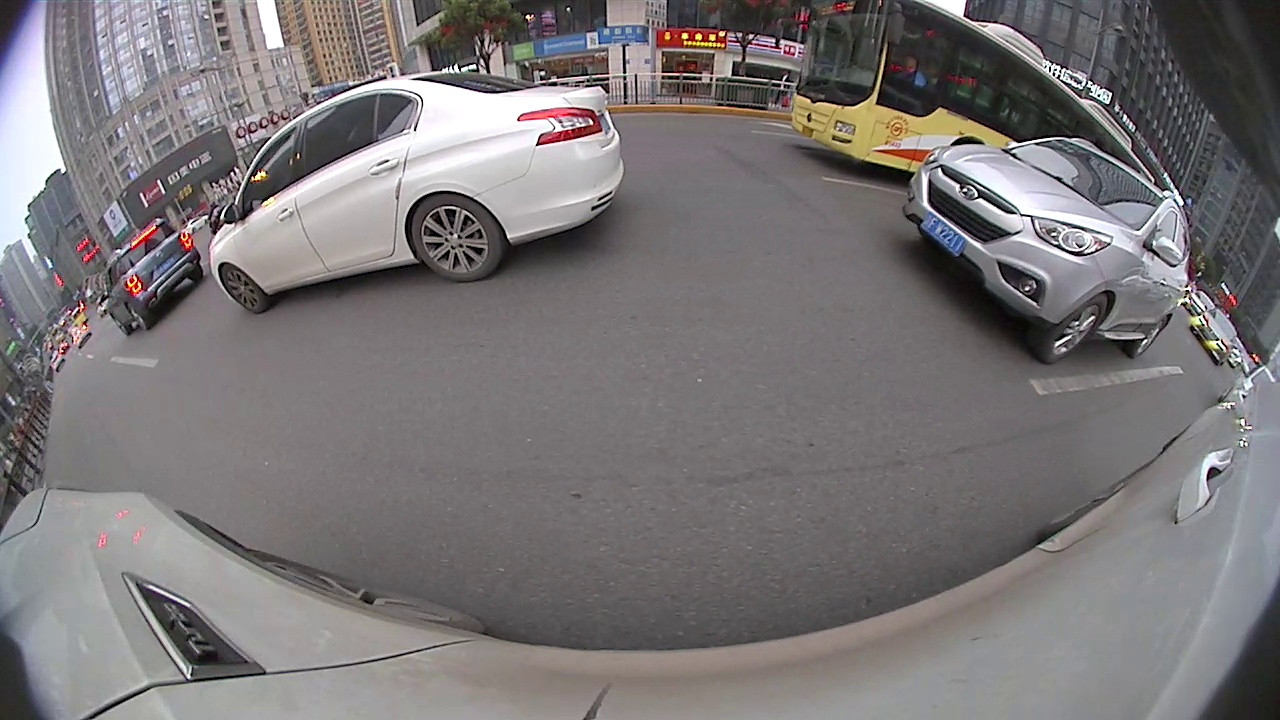bus: (786, 1, 1157, 185)
car: (203, 72, 629, 313), (898, 133, 1188, 363), (95, 215, 207, 337)
front: (1039, 294, 1108, 363), (217, 262, 272, 317)
rear: (410, 191, 503, 281), (1129, 314, 1169, 360)
